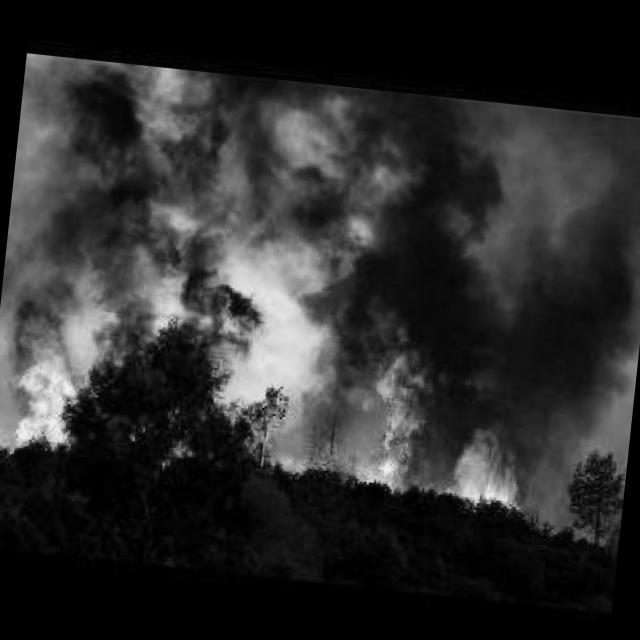fire: (0, 288, 551, 511)
